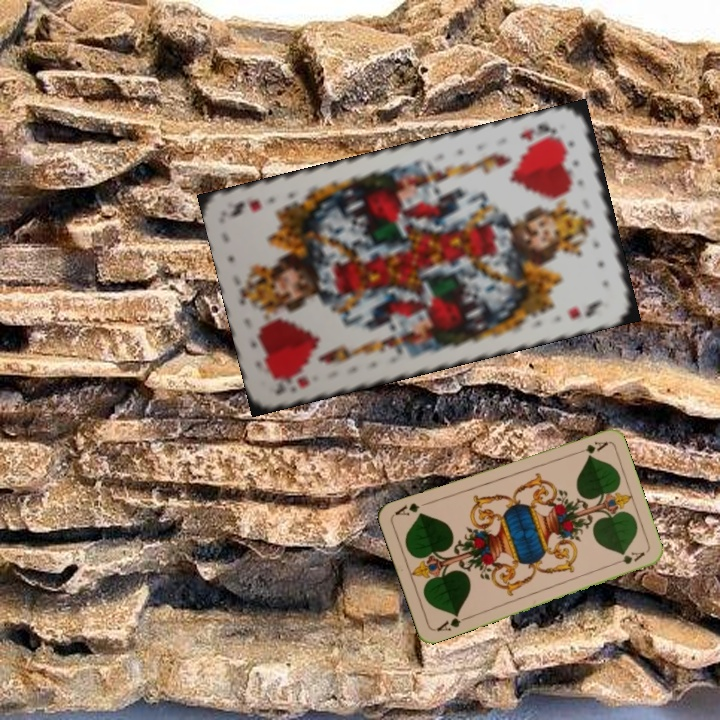GA: (432, 610, 471, 634), (570, 437, 610, 457)
HK: (516, 118, 564, 149), (269, 367, 312, 398)
